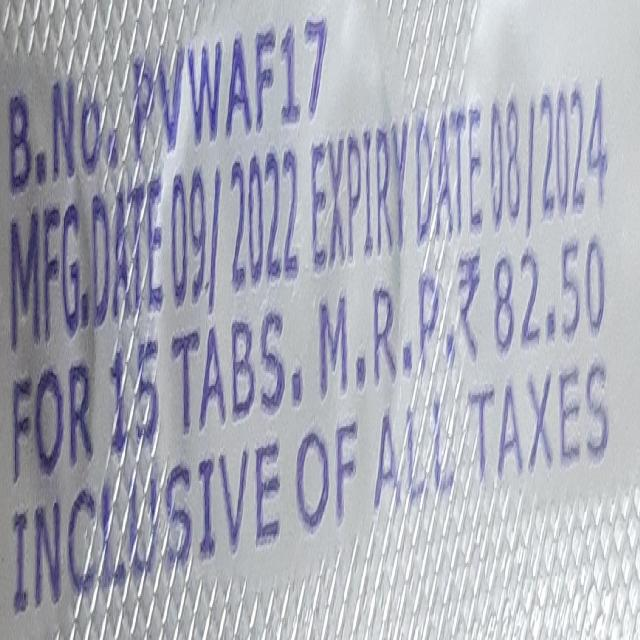sentence: (10, 86, 609, 339), (11, 231, 605, 474), (10, 371, 461, 632), (9, 11, 328, 191), (452, 350, 610, 506)
